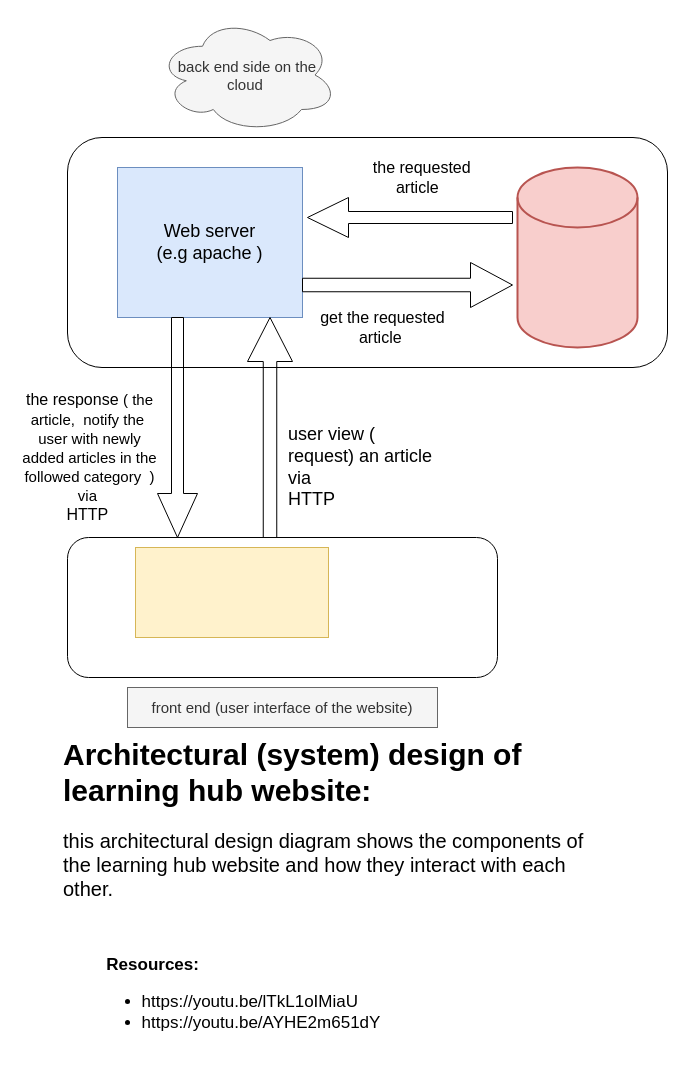
This 685x1067 diagram has some shape labels left out. The shapes that lost their labels are listed below. From the top down, each one's centre as x and y in pixels, then its label:
point 577,257: Data base server (e.g. My SQL)
point 231,592: Client ( web browser) i.e Firefox and google chrome)
